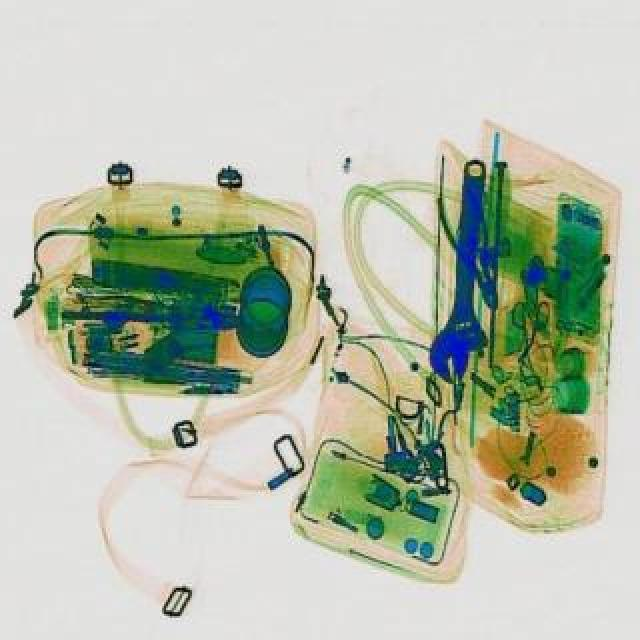scissors: (426, 154, 504, 382)
wrench: (430, 184, 514, 316)
